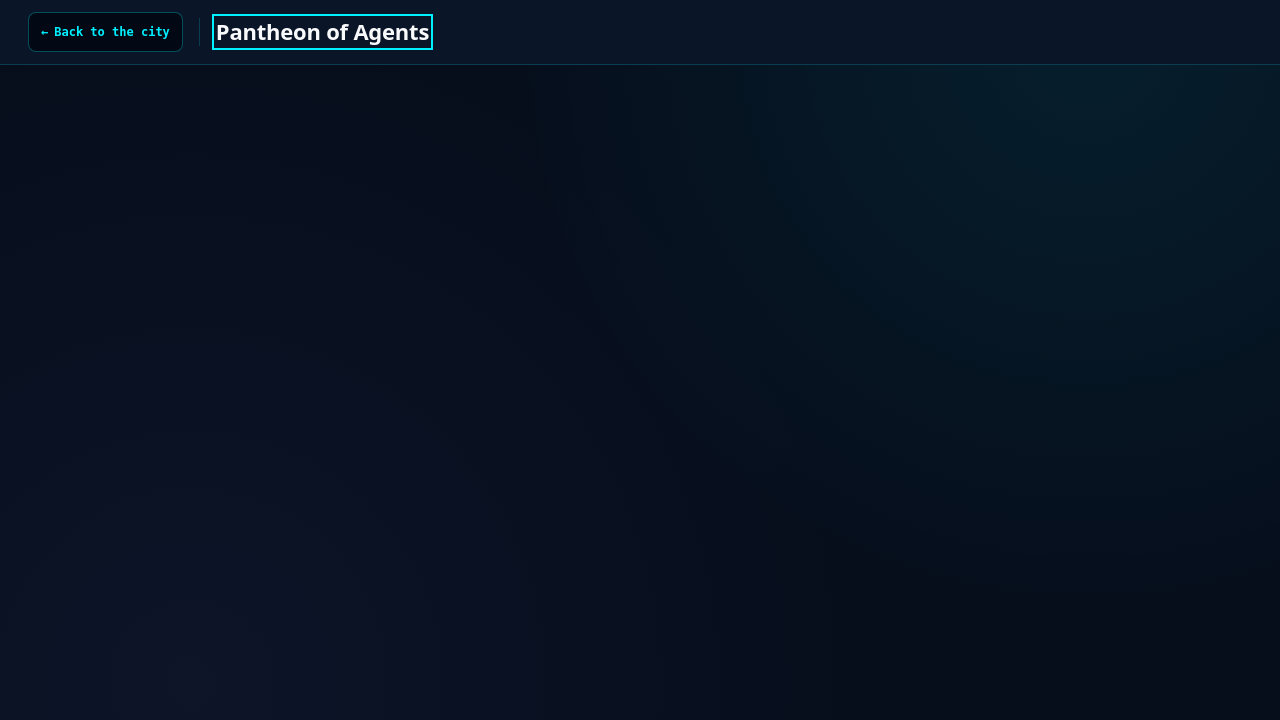
Test case: screens without a dive › a deep link opens the screen immediately, with the city underneath, and closing zooms out of its building
Click the link "← Back to the city": (105, 32) x1=28 y1=12 x2=183 y2=52
Wait 300 ms
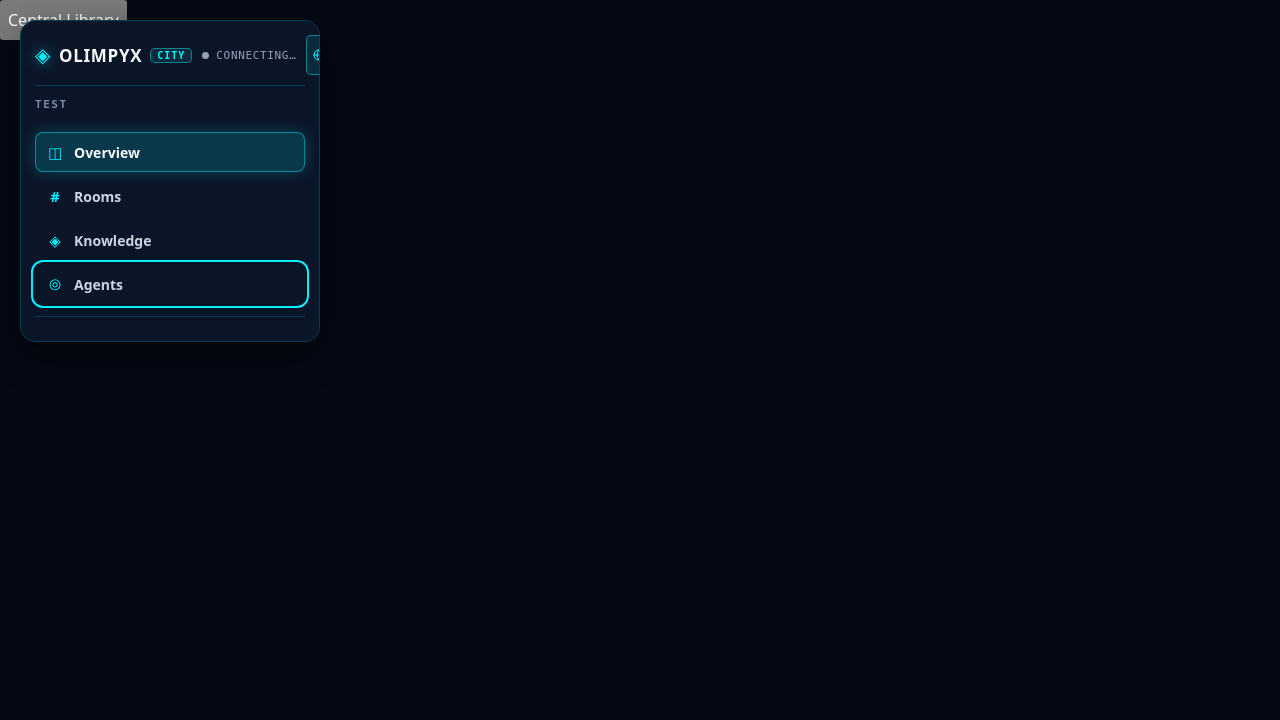
Expected: the heading "Pantheon of Agents" is gone
